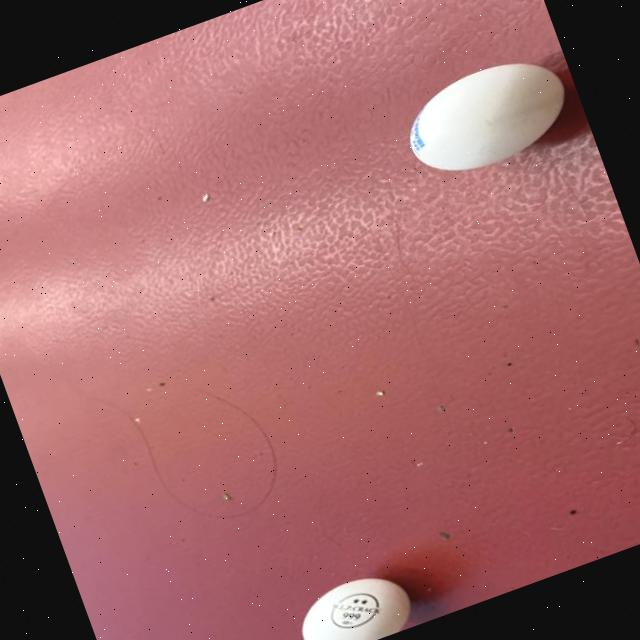ping-pong-ball: (389, 41, 585, 192), (284, 560, 422, 640)
